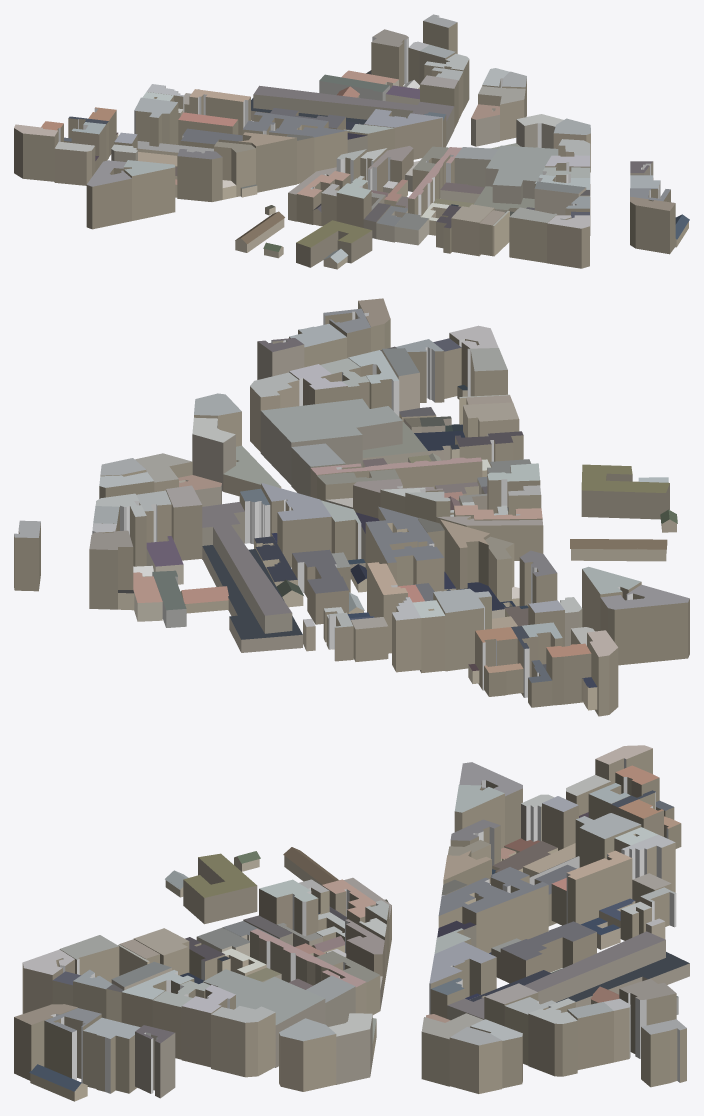
3 views of the same model, one above another, from view 1: azimuth 30°, elevation 25°; view 2: azimuth 150°, elevation 25°; view 3: azimuth 270°, elevation 25° (orthographic). The views are drawn at different scales.
Parts seen in each view (by area): view 1: tuile; view 2: tuile; view 3: tuile.
Boxes of the visible parts, box(x1,y1,x2,y2) form: tuile: box(14, 14, 689, 269); tuile: box(14, 298, 689, 716); tuile: box(14, 745, 689, 1101).
Size of the model in its own units: 265 by 29.31 by 260.
